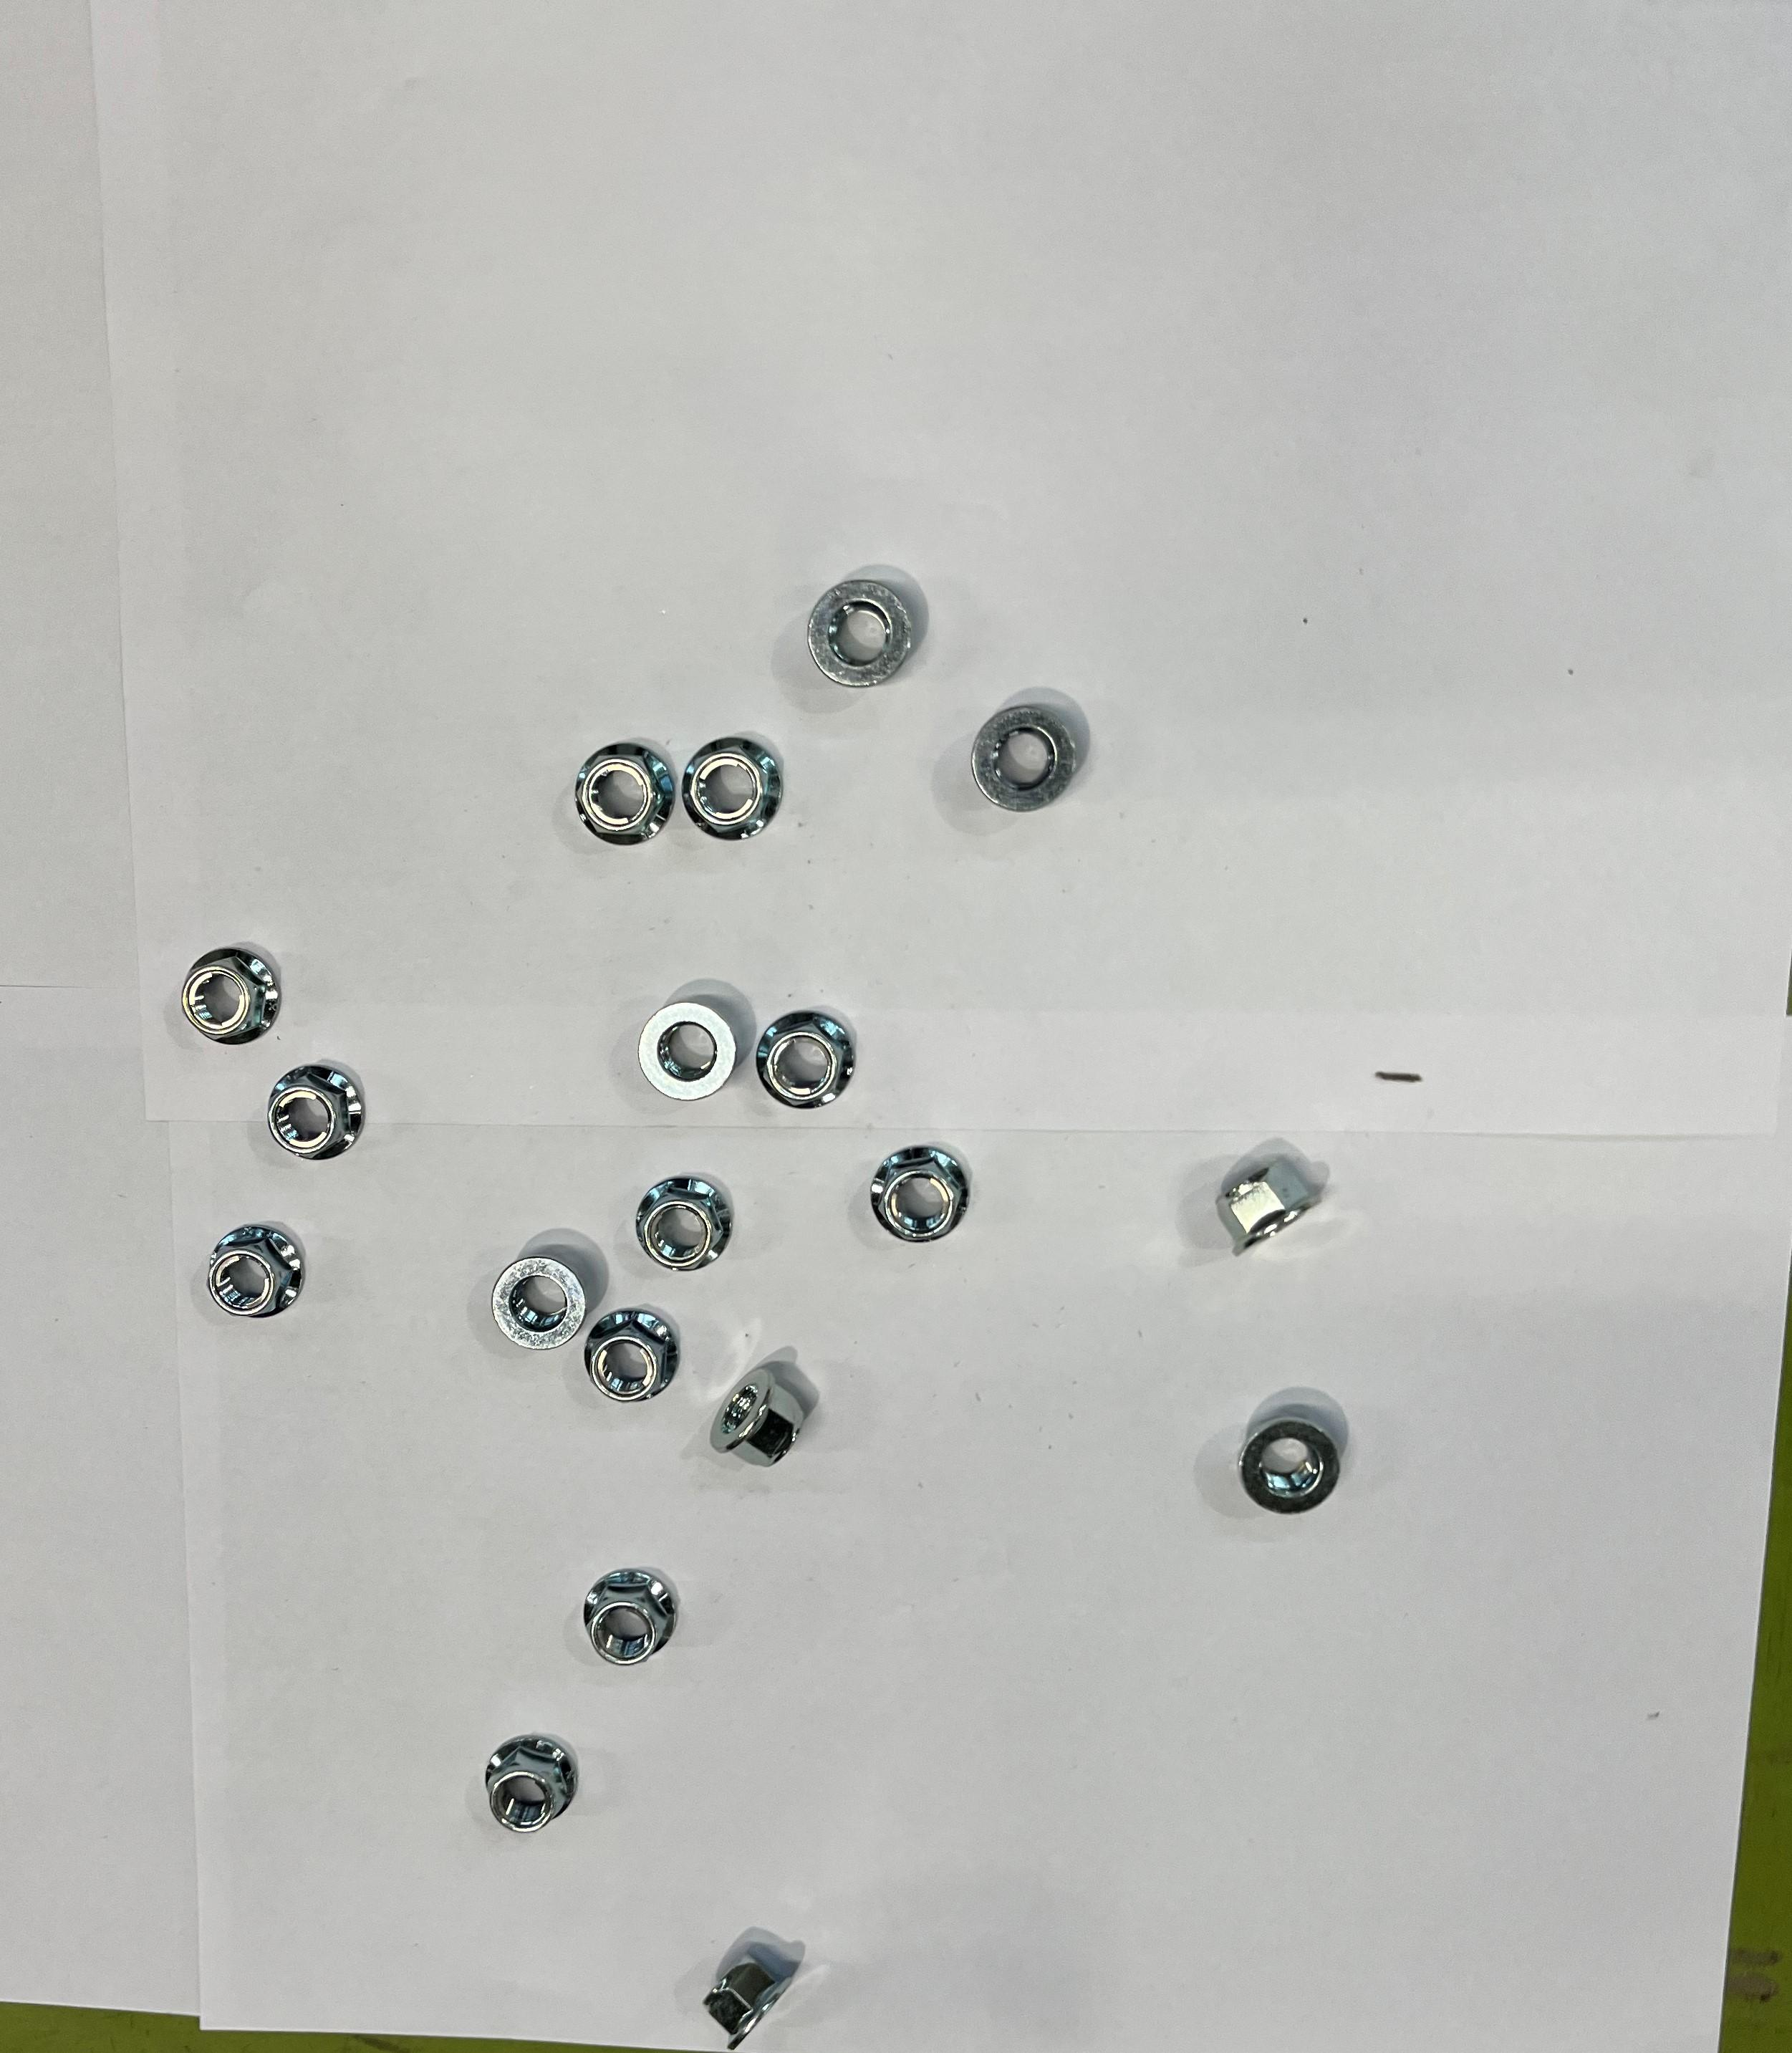Type B: (972, 697, 1082, 819), (637, 992, 743, 1103), (811, 576, 911, 693), (684, 730, 783, 845), (864, 1142, 972, 1246), (1234, 1414, 1344, 1517), (1218, 1150, 1321, 1257), (710, 1362, 808, 1473), (171, 948, 279, 1047), (576, 737, 674, 847), (585, 1301, 681, 1405), (208, 1219, 304, 1323), (635, 1175, 733, 1274), (759, 1014, 857, 1110), (579, 1571, 677, 1667), (269, 1067, 365, 1159), (494, 1730, 579, 1833), (492, 1259, 586, 1351)
